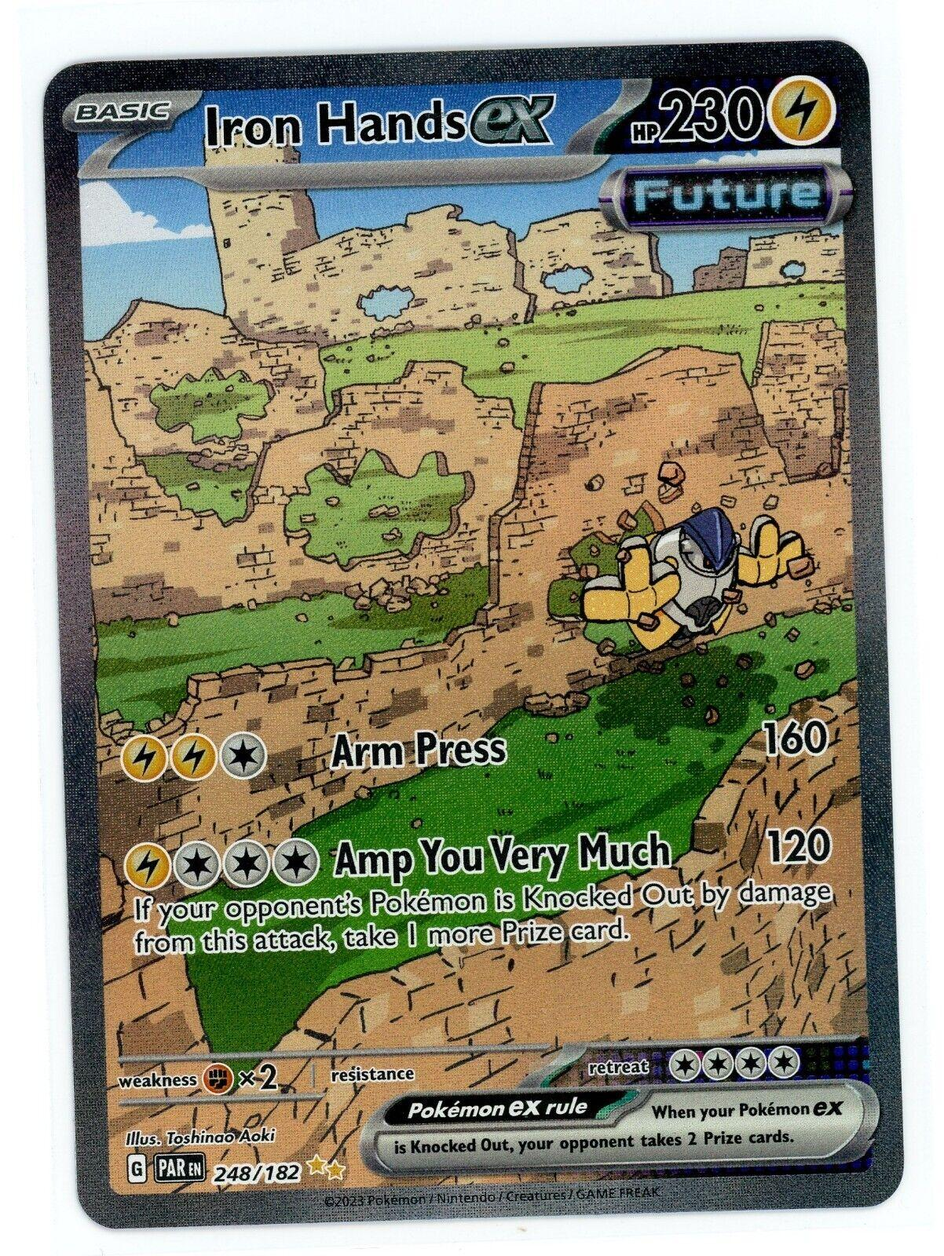card-2UtV: (43, 40, 904, 1229)
